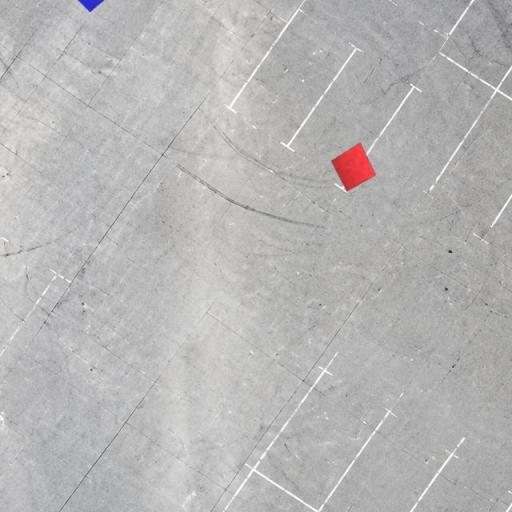RED_SQUARE: (330, 142, 377, 192)
